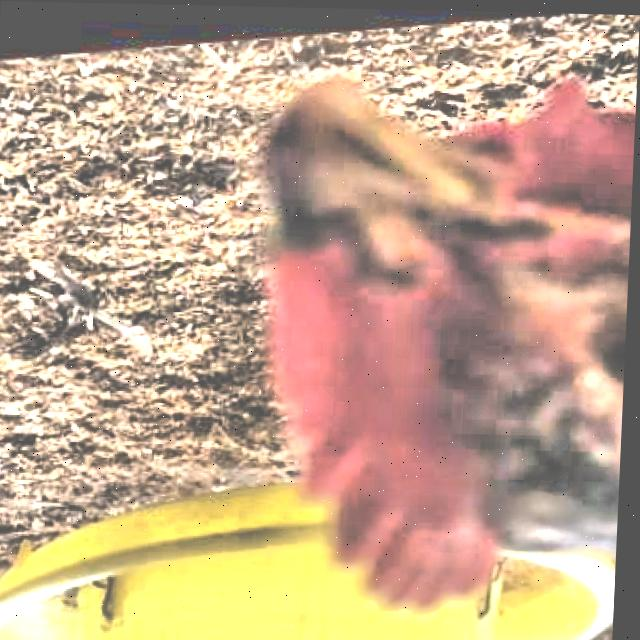Healthy: (572, 310, 630, 399)
